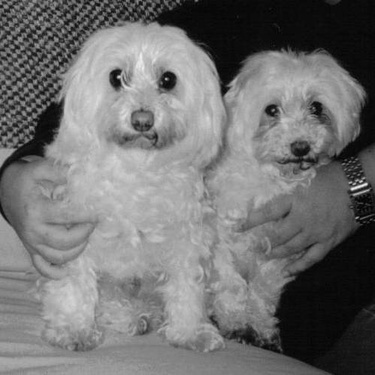dog: (36, 13, 228, 354), (200, 35, 368, 354)
